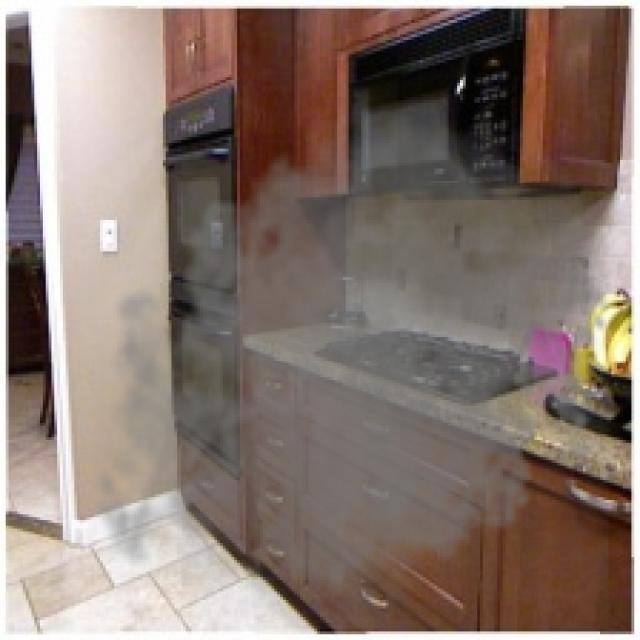smoke: (80, 77, 620, 629)
